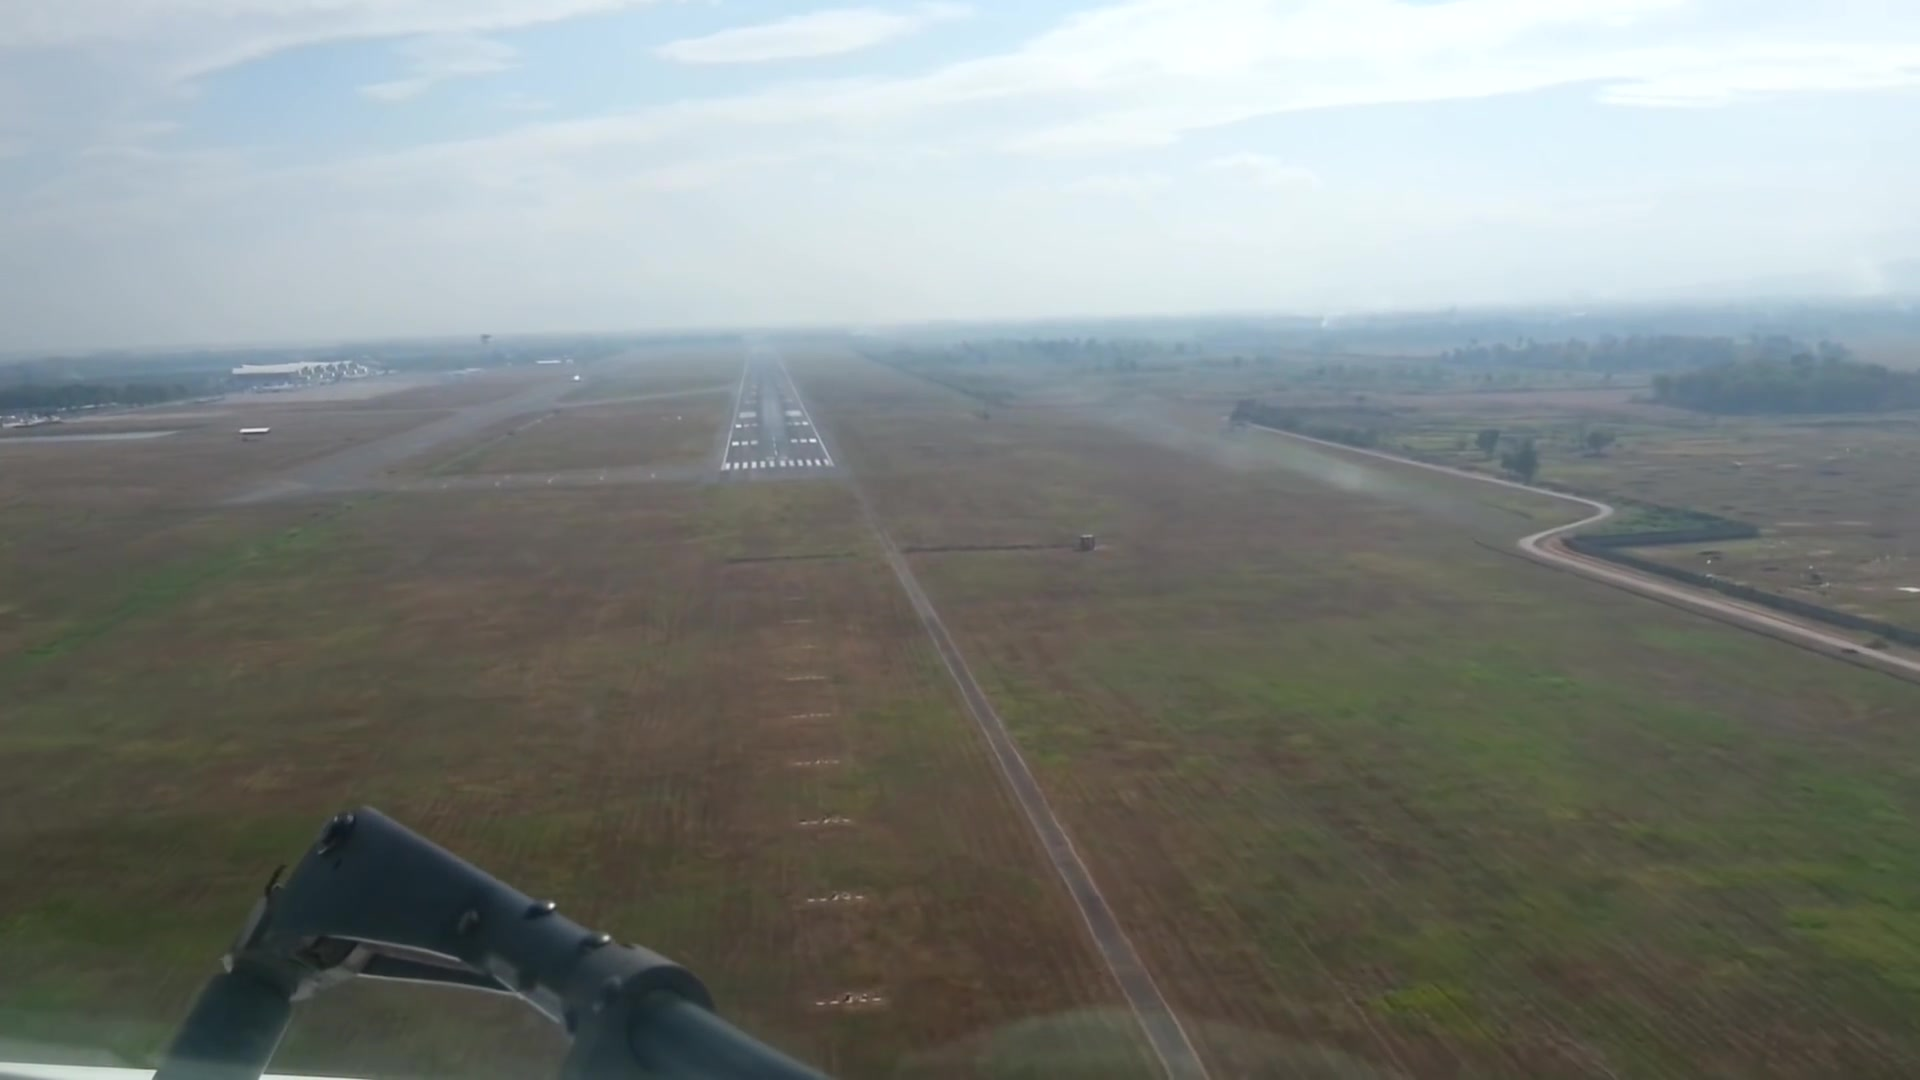entrance: (723, 459, 829, 471)
runway: (717, 342, 837, 475)
